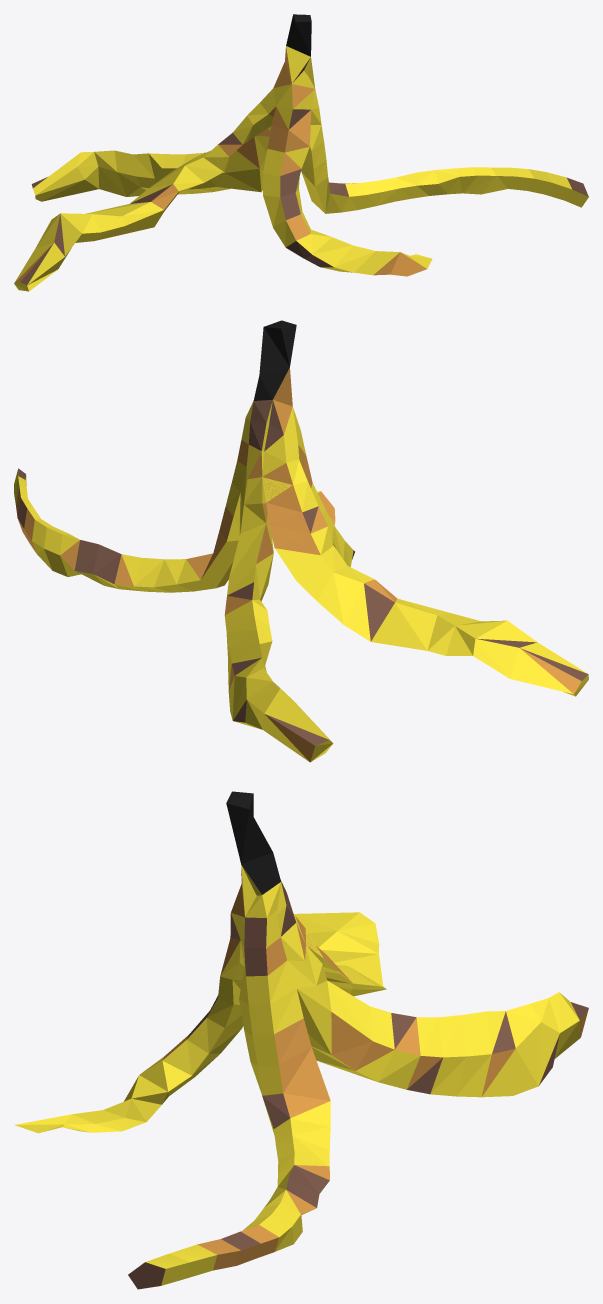
Rendered from bananapeel.fbx.
3 renders of one model, top to bottom at view 1: azimuth 30°, elevation 25°; view 2: azimuth 150°, elevation 25°; view 3: azimuth 270°, elevation 25°, orthographic. The views are drawn at different scales.
Parts seen in each view (by area): view 1: Peel; view 2: Peel; view 3: Peel.
Boxes of the visible parts, x1,y1,x2,y2 form: Peel: [14, 14, 588, 291]; Peel: [14, 320, 588, 762]; Peel: [14, 791, 588, 1289].
Bounding box in the file's own units: 146 × 64.77 × 99.07.
